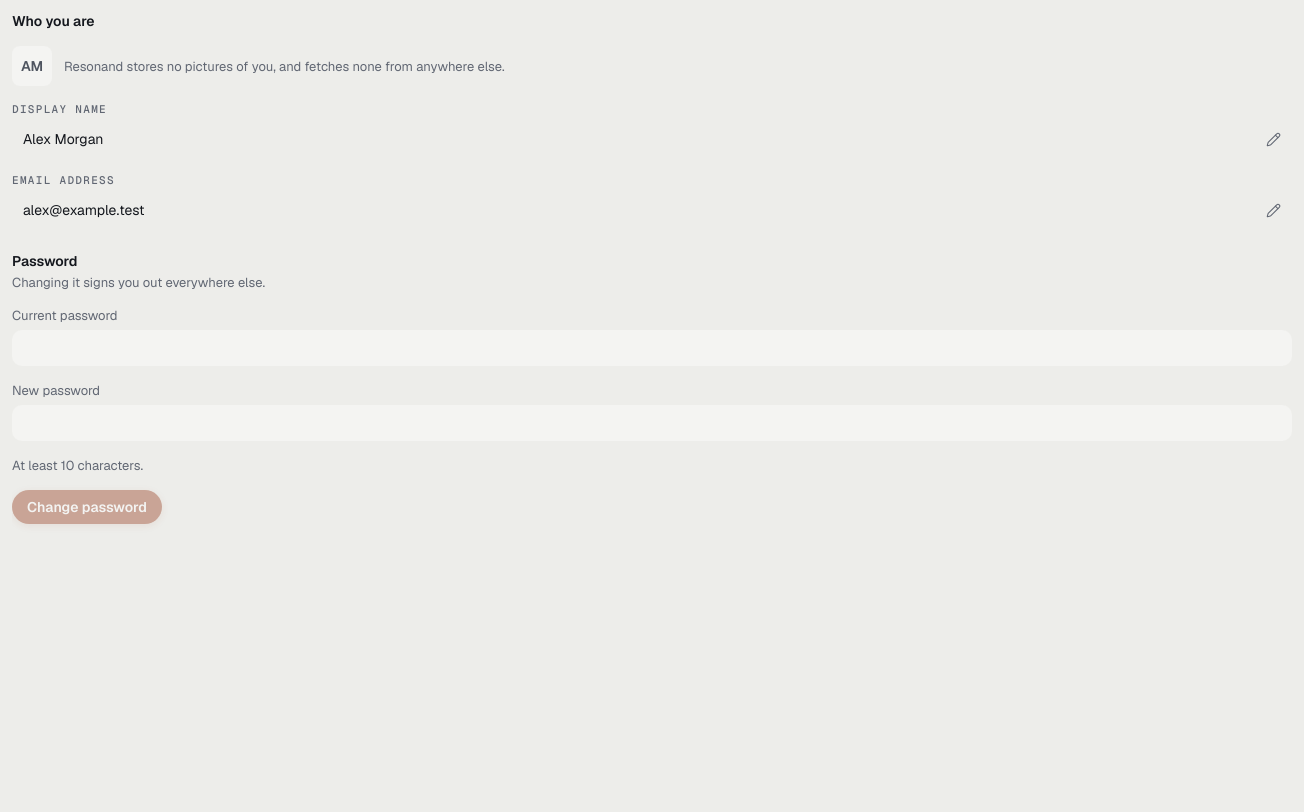
who you are › shows what the instance said when an address is already somebody else’s
Click the button "alex@example.test" at (84, 210), box [12,192,1292,228]
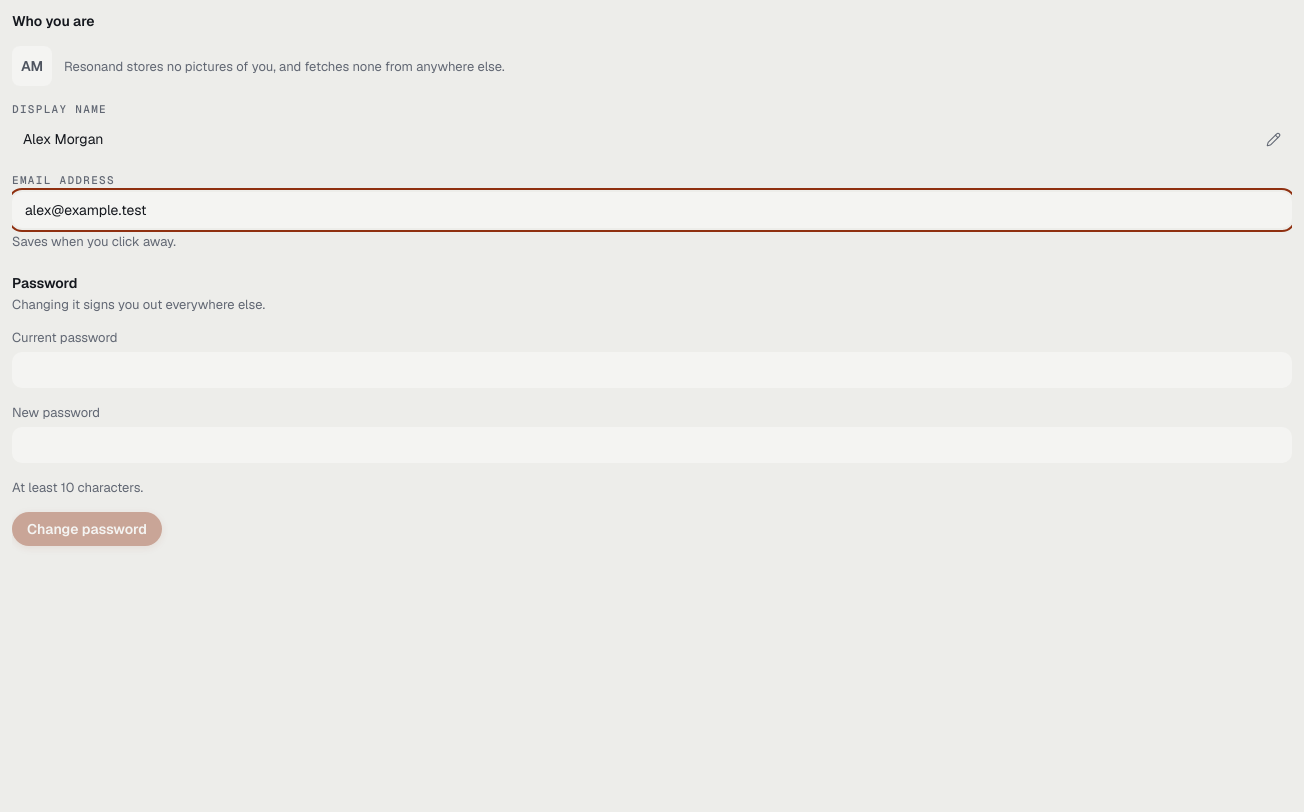
Replace the text in the field named "Email address" with "sam@example.test" at (652, 210), box [23,200,1281,220]
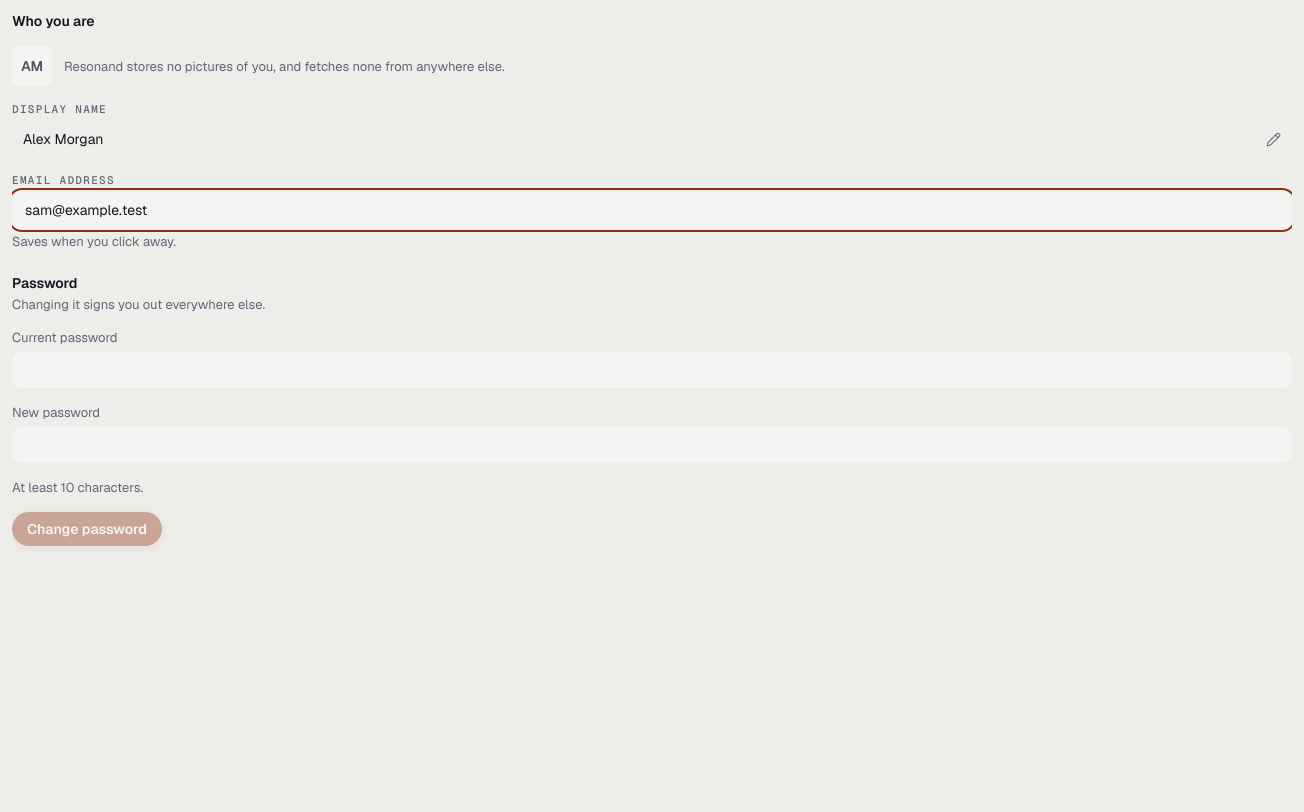
Press Tab
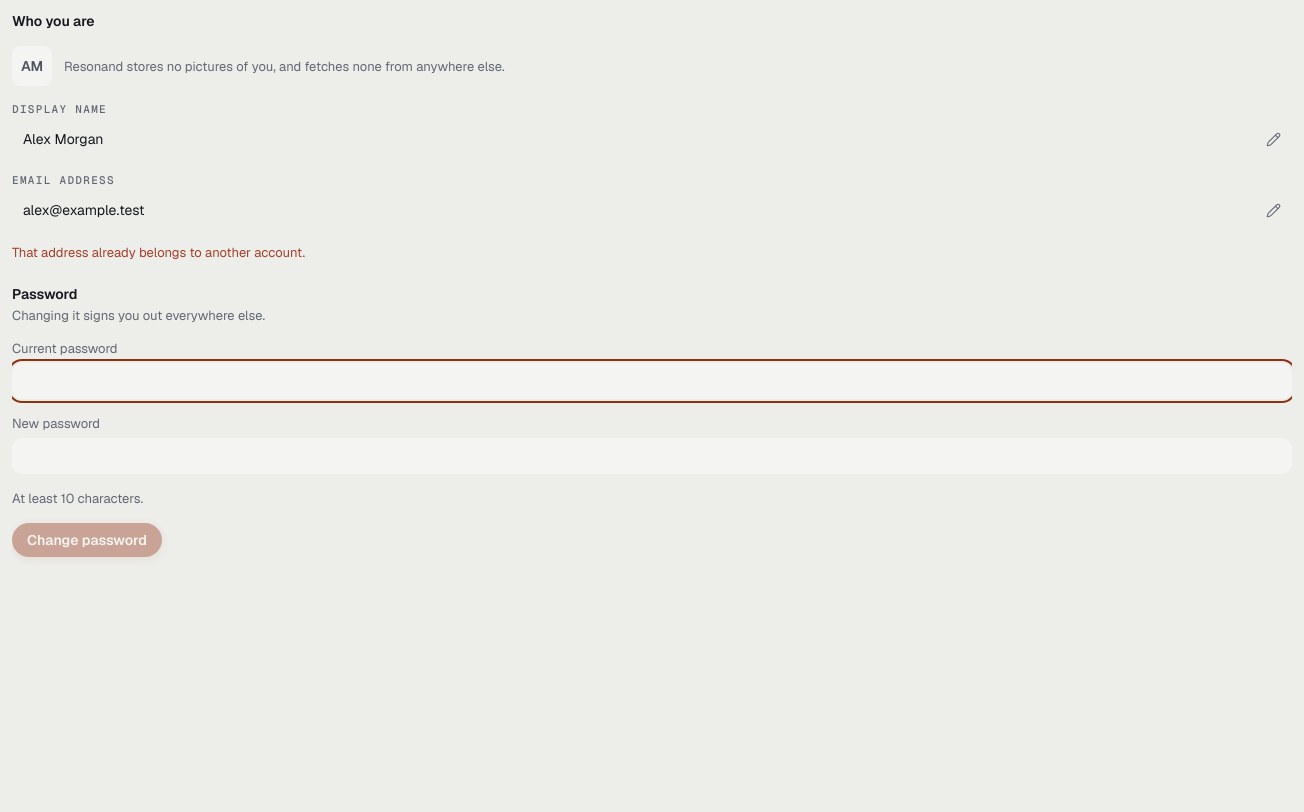
Check: the message shows "already belongs to another", box [12,244,305,261]
